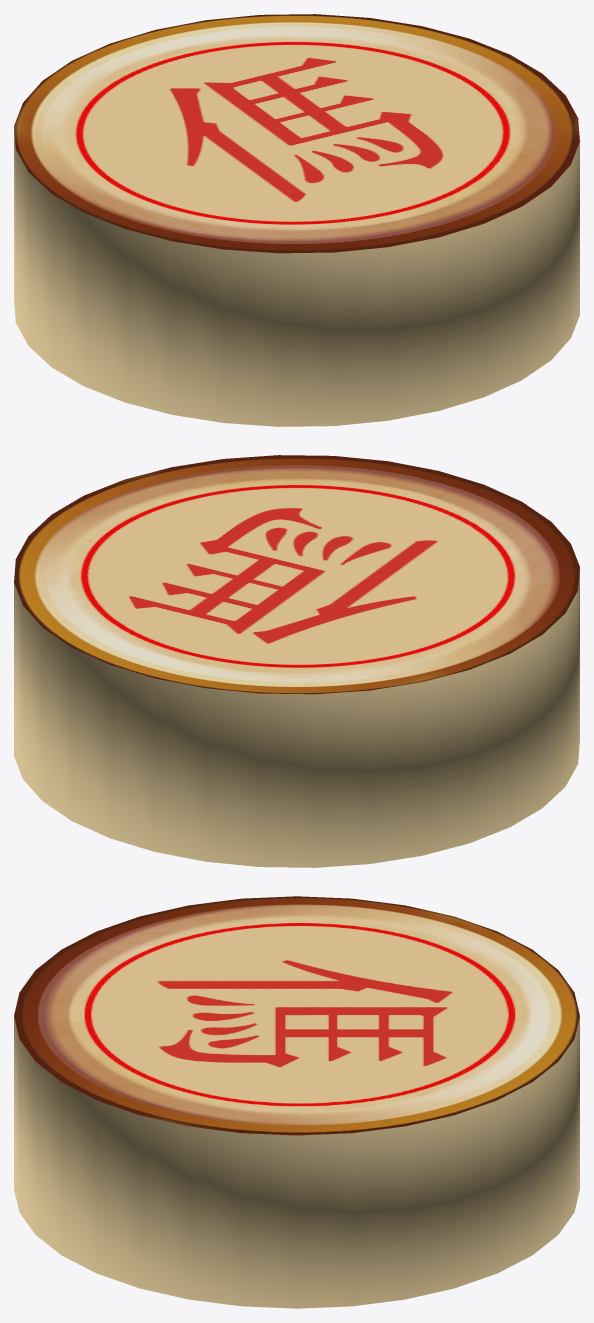
3 views of the same model, one above another, from view 1: azimuth 30°, elevation 25°; view 2: azimuth 150°, elevation 25°; view 3: azimuth 270°, elevation 25° (orthographic).
Visible parts, largest first — view 1: Cylinder.003; view 2: Cylinder.003; view 3: Cylinder.003.
Part boxes in pixels (left/top/right/bottom): Cylinder.003: left=14, top=14, right=579, bottom=426; Cylinder.003: left=14, top=455, right=579, bottom=867; Cylinder.003: left=14, top=896, right=579, bottom=1308.
Size of the model in its own units: 200 by 67.52 by 200.
